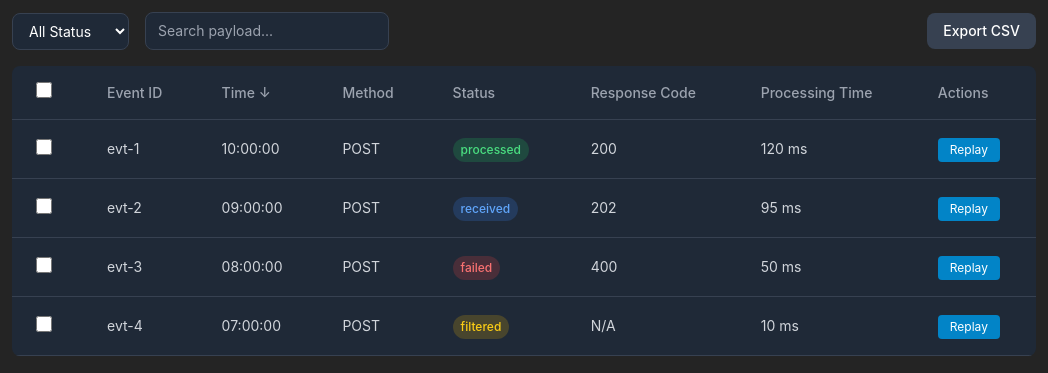
it: WebhookEventHistory › Filtering › should show all events when filter is cleared
Expected: the text "evt-1" is shown, [83,120,198,178]
Select "Processed" in the dropdown named "filter by status" at (70, 31), box [12,12,129,50]
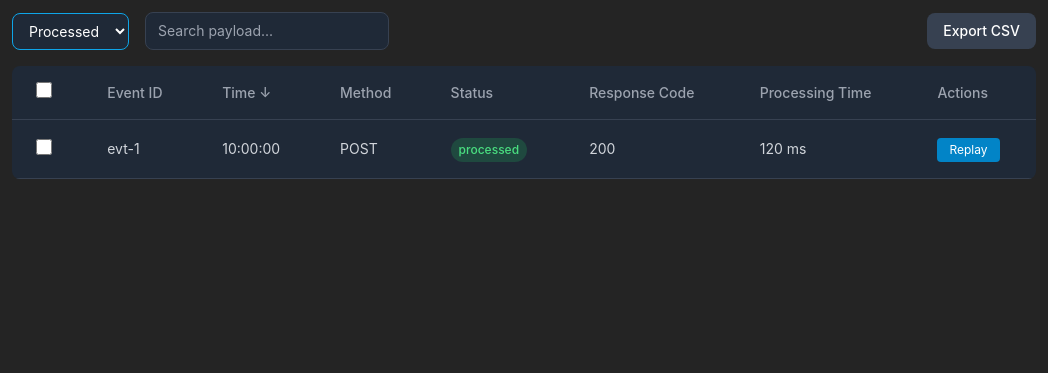
Expected: the text "evt-2" is gone
Select "All Status" in the dropdown named "filter by status" at (70, 31), box [12,12,129,50]
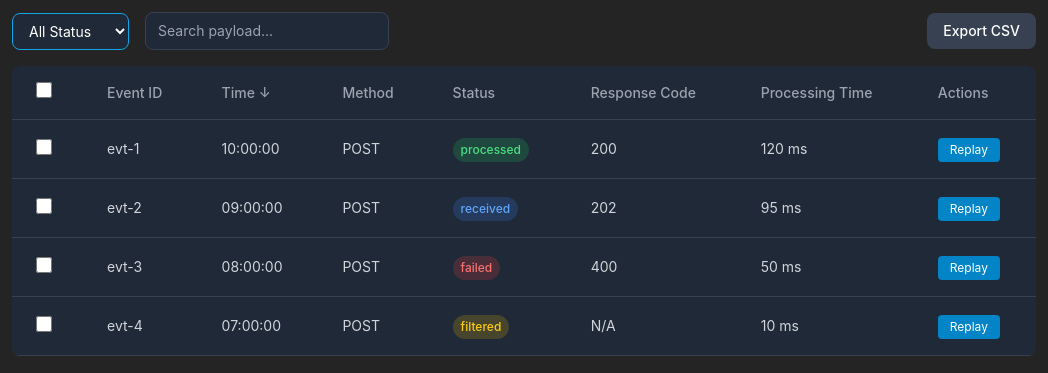
Expected: the text "evt-2" is shown, [83,178,198,238]
Expected: the text "evt-3" is shown, [83,238,198,296]
Expected: the text "evt-4" is shown, [83,296,198,356]
